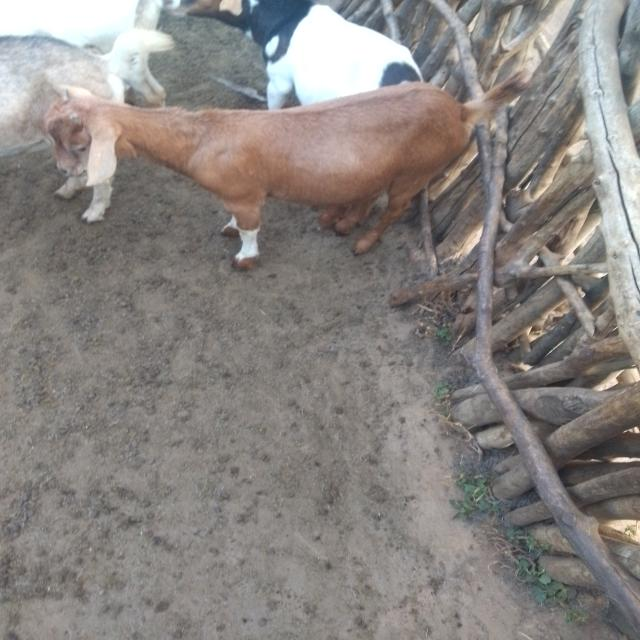goat: (1, 34, 640, 309)
